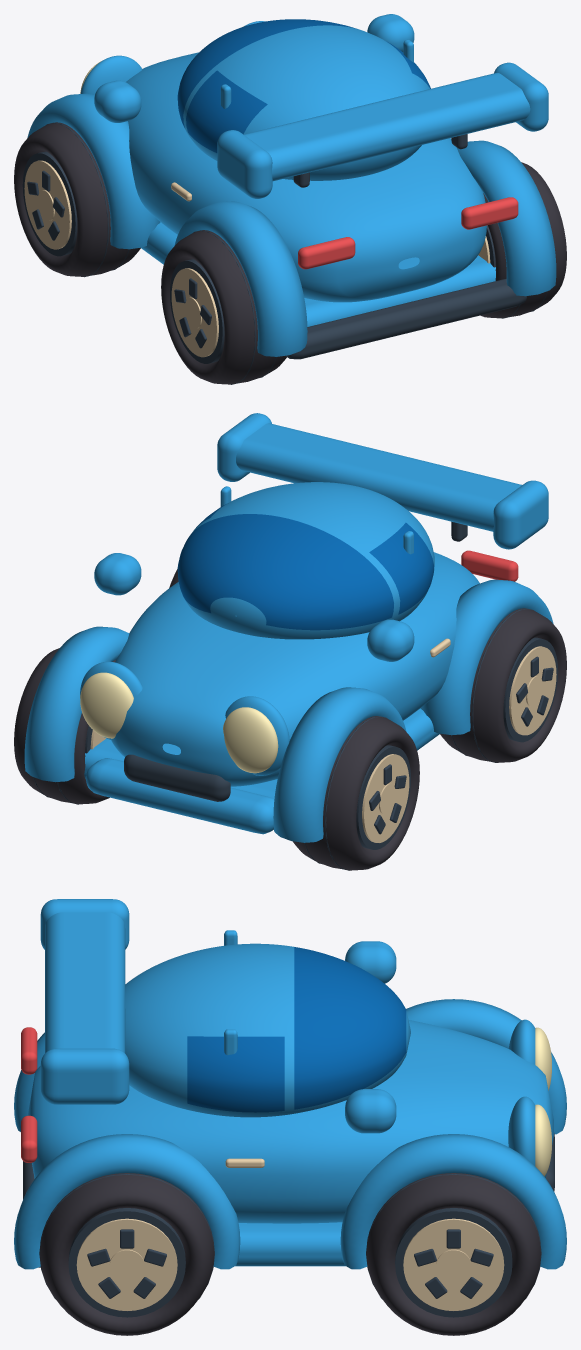
The model's file is race_car.glb.
3 renders of one model, top to bottom at view 1: azimuth 30°, elevation 25°; view 2: azimuth 150°, elevation 25°; view 3: azimuth 270°, elevation 25°, orthographic. The views are drawn at different scales.
Parts seen in each view (by area): view 1: Body, Roof, Rear_Wing, _MeshInstance3D_7, Tire, _MeshInstance3D_8, _MeshInstance3D_37, Cabin_Glass, Fender, Rear_Bumper, Sill, _MeshInstance3D_38 (+11 smaller); view 2: Body, Cabin_Glass, Rear_Wing, Roof, Fender, _MeshInstance3D_8, Tire, _MeshInstance3D_25, _MeshInstance3D_7, Front_Bumper, _MeshInstance3D_26, Headlight (+14 smaller); view 3: Body, Cabin_Glass, Roof, _MeshInstance3D_26, _MeshInstance3D_38, _MeshInstance3D_25, _MeshInstance3D_37, Rear_Wing, _MeshInstance3D_28, _MeshInstance3D_40, _MeshInstance3D_50, Sill (+15 smaller).
Boxes of the visible parts, x1,y1,x2,y2 form: Body: (126, 52, 486, 302); Roof: (183, 25, 429, 180); Rear_Wing: (244, 73, 530, 181); _MeshInstance3D_7: (174, 201, 307, 356); Tire: (14, 122, 140, 276); _MeshInstance3D_8: (161, 230, 286, 384); _MeshInstance3D_37: (456, 140, 556, 296); Cabin_Glass: (177, 19, 430, 152); Fender: (27, 93, 160, 249); Rear_Bumper: (285, 279, 526, 359); Sill: (141, 222, 495, 326); _MeshInstance3D_38: (480, 162, 566, 318); Body: (111, 552, 479, 786); Cabin_Glass: (177, 504, 434, 630); Rear_Wing: (236, 423, 521, 531); Roof: (185, 482, 434, 639); Fender: (273, 687, 406, 842); _MeshInstance3D_8: (440, 608, 566, 762); Tire: (293, 716, 419, 870); _MeshInstance3D_25: (24, 626, 129, 782); _MeshInstance3D_7: (420, 579, 553, 735); Front_Bumper: (86, 758, 274, 834); _MeshInstance3D_26: (14, 648, 115, 804); Headlight: (223, 707, 278, 773); Body: (27, 1020, 553, 1223); Cabin_Glass: (187, 947, 406, 1112); Roof: (125, 943, 410, 1117); _MeshInstance3D_26: (366, 1173, 540, 1335); _MeshInstance3D_38: (40, 1173, 214, 1335); _MeshInstance3D_25: (340, 1134, 566, 1269); _MeshInstance3D_37: (14, 1134, 240, 1269); Rear_Wing: (45, 912, 125, 1053); _MeshInstance3D_28: (403, 1218, 504, 1310); _MeshInstance3D_40: (76, 1218, 177, 1310); _MeshInstance3D_50: (40, 1048, 129, 1104); Sill: (235, 1222, 345, 1266).
Size of the model in its own units: 2.15 by 1.55 by 2.69.
